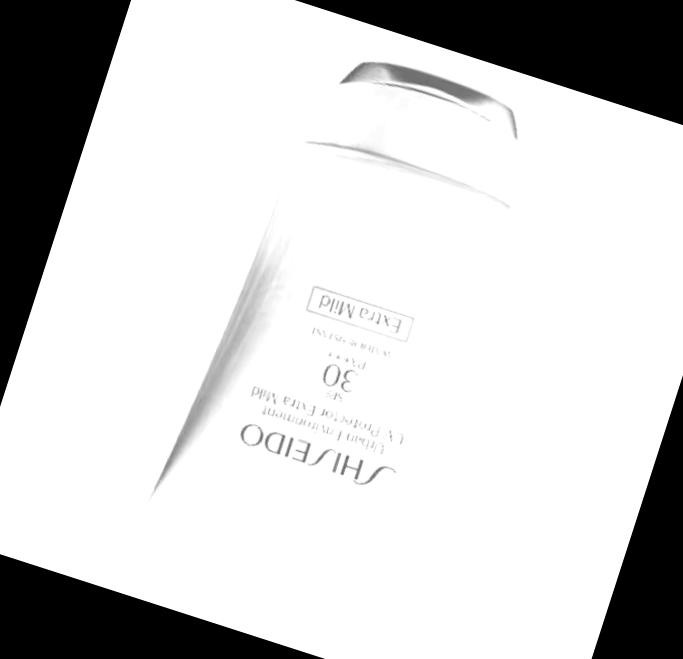cosmetic: (136, 25, 579, 614)
